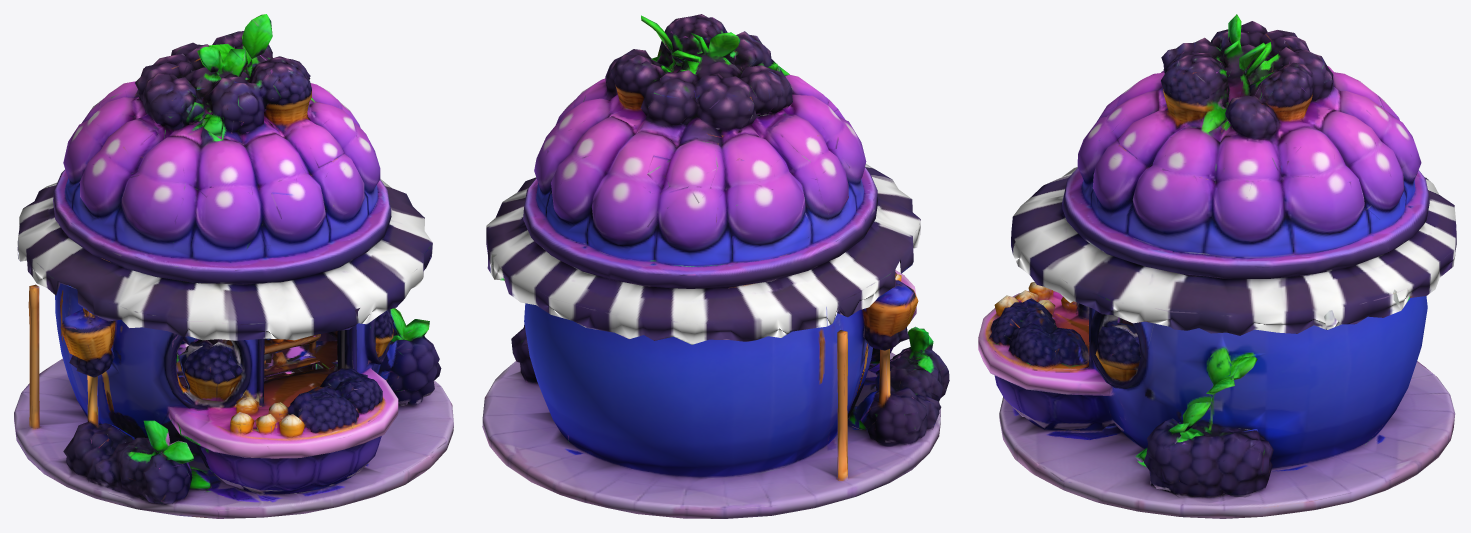
Rendered from Meshy_AI_Berry_Bliss_Hut_0109095947_texture.fbx.
3 renders of one model, left to right at view 1: azimuth 30°, elevation 25°; view 2: azimuth 150°, elevation 25°; view 3: azimuth 270°, elevation 25°, orthographic. The views are drawn at different scales.
Parts seen in each view (by area): view 1: Mesh1.0; view 2: Mesh1.0; view 3: Mesh1.0.
Part boxes in pixels (x1,y1,x2,y2): Mesh1.0: (14,14,453,518); Mesh1.0: (482,14,949,518); Mesh1.0: (978,14,1456,518).
Size of the model in its own units: 182 by 178 by 191.
1 material, 1 textured.
